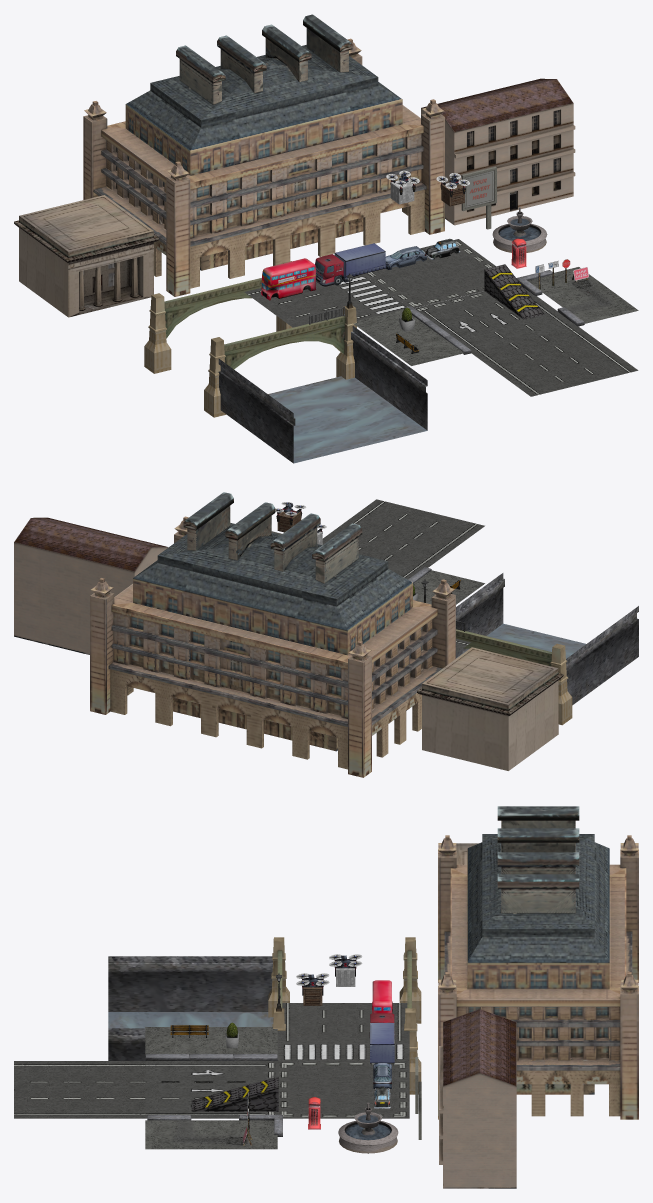
File: ldn_mobile_pack.glb
3 views of the same model, one above another, from view 1: azimuth 30°, elevation 25°; view 2: azimuth 150°, elevation 25°; view 3: azimuth 270°, elevation 25° (orthographic). The views are drawn at different scales.
Visible parts, largest first — view 1: building_hotel_12, river_22, building_houses_13, building_bank_11, bridge_23, road_straight_14, road_arrows_16, road_junction_17, road_crossing_18, sidewalk_old_15, sidewalk_new_24, bus_30 (+6 smaller); view 2: building_hotel_12, building_bank_11, building_houses_13, river_22, road_straight_14, bridge_23, sidewalk_new_24; view 3: building_hotel_12, building_houses_13, river_22, road_straight_14, road_junction_17, road_crossing_18, road_arrows_16, sidewalk_old_15, bridge_23, sidewalk_new_24, ramp_28, fountain_2 (+3 smaller).
Part boxes in pixels (x1=…): building_hotel_12: x1=83, y1=14, x2=444, y2=296; river_22: x1=218, y1=326, x2=427, y2=463; building_houses_13: x1=421, y1=78, x2=575, y2=225; building_bank_11: x1=14, y1=195, x2=158, y2=317; bridge_23: x1=144, y1=261, x2=356, y2=417; road_straight_14: x1=471, y1=326, x2=638, y2=396; road_arrows_16: x1=414, y1=288, x2=577, y2=352; road_junction_17: x1=363, y1=239, x2=495, y2=308; road_crossing_18: x1=244, y1=274, x2=407, y2=335; sidewalk_old_15: x1=528, y1=267, x2=638, y2=323; sidewalk_new_24: x1=353, y1=309, x2=464, y2=365; bus_30: x1=261, y1=258, x2=315, y2=300; building_hotel_12: x1=90, y1=492, x2=455, y2=777; building_bank_11: x1=417, y1=647, x2=563, y2=770; building_houses_13: x1=14, y1=517, x2=168, y2=654; river_22: x1=456, y1=573, x2=638, y2=705; road_straight_14: x1=322, y1=499, x2=484, y2=569; bridge_23: x1=456, y1=629, x2=572, y2=725; sidewalk_new_24: x1=413, y1=570, x2=484, y2=604; building_hotel_12: x1=438, y1=806, x2=638, y2=1119; building_houses_13: x1=439, y1=1009, x2=516, y2=1188; river_22: x1=108, y1=956, x2=273, y2=1060; road_straight_14: x1=14, y1=1061, x2=145, y2=1118; road_junction_17: x1=277, y1=1061, x2=409, y2=1118; road_crossing_18: x1=277, y1=1003, x2=409, y2=1060; road_arrows_16: x1=145, y1=1061, x2=277, y2=1118; sidewalk_old_15: x1=145, y1=1120, x2=277, y2=1149; bridge_23: x1=268, y1=937, x2=421, y2=1094; sidewalk_new_24: x1=145, y1=1027, x2=277, y2=1055; ramp_28: x1=191, y1=1077, x2=278, y2=1111; fountain_2: x1=338, y1=1102, x2=398, y2=1153.
Size of the model in its own units: 140 by 63.45 by 135.
26 materials, 26 textured.
